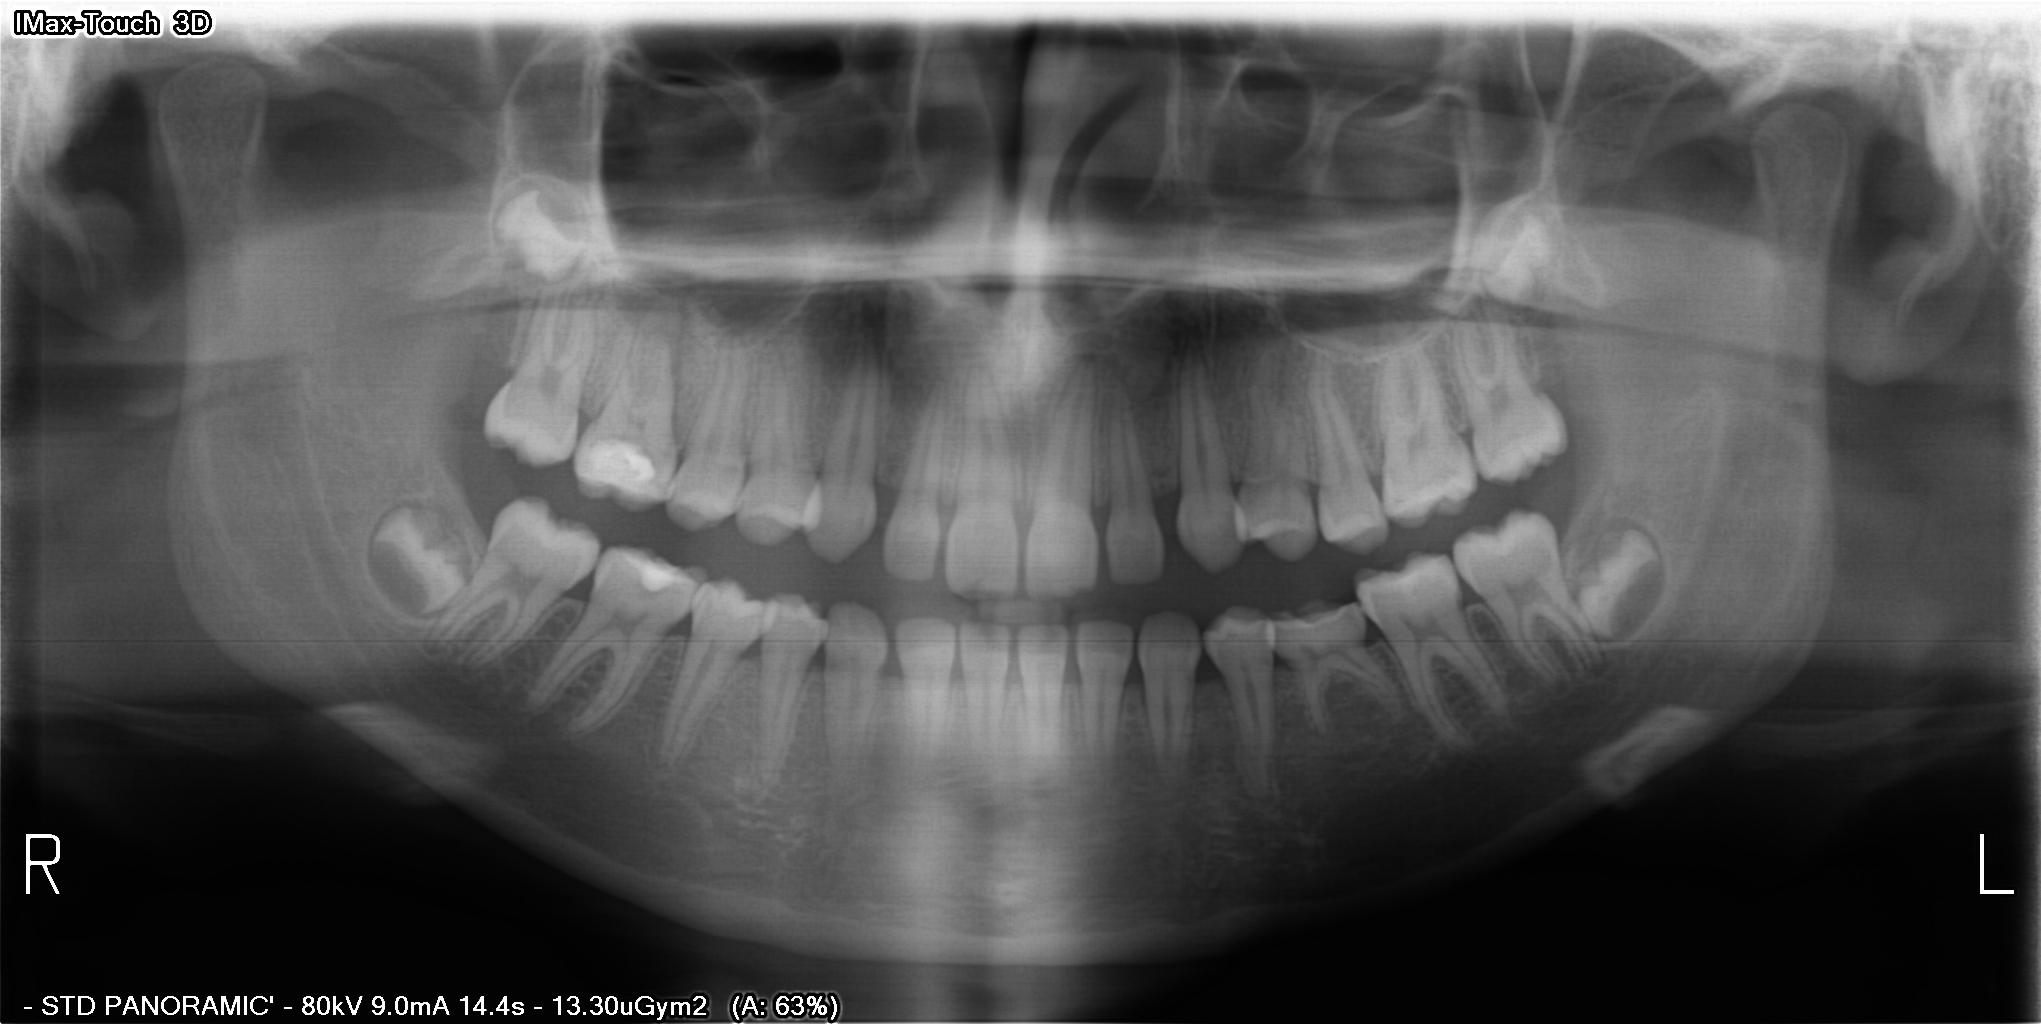Çürük: (582, 443, 657, 495), (633, 555, 683, 589)
Çürük Bölgesi: (615, 444, 672, 465), (637, 579, 670, 607)
